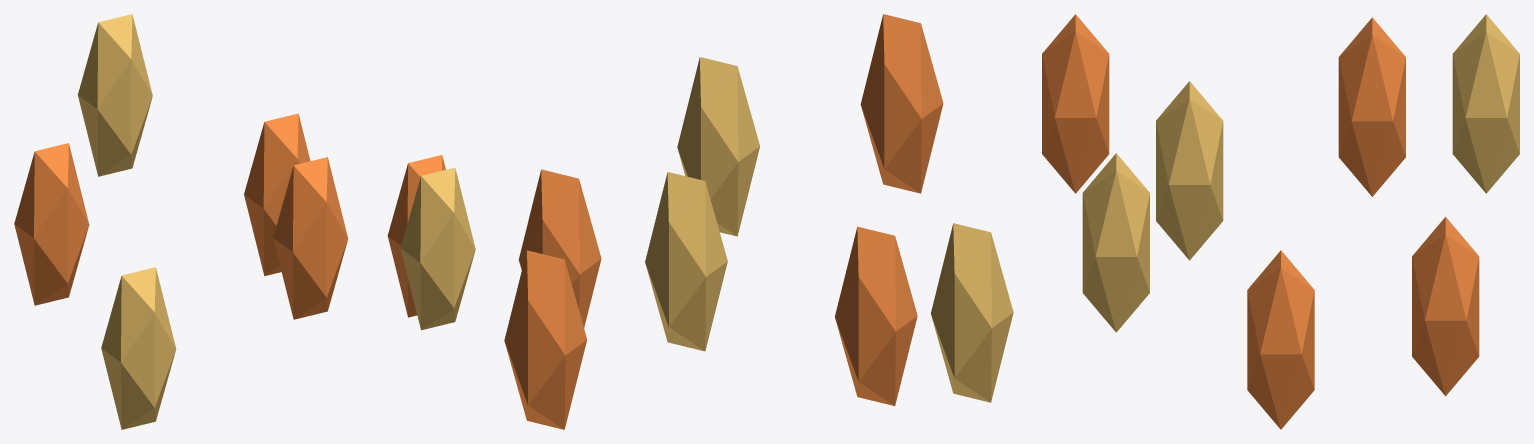
Rendered from fx_impact_sparks.glb.
3 renders of one model, left to right at view 1: azimuth 30°, elevation 25°; view 2: azimuth 150°, elevation 25°; view 3: azimuth 270°, elevation 25°, orthographic. The views are drawn at different scales.
Visible parts, largest first — view 1: spark_2, spark_3, spark_4, spark_1, spark_5, spark_6, spark_0; view 2: spark_4, spark_2, spark_3, spark_5, spark_6, spark_1, spark_0; view 3: spark_0, spark_6, spark_1, spark_4, spark_2, spark_3, spark_5.
Boxes of the visible parts, x1=… form: spark_2: x1=273, y1=157, x2=348, y2=319; spark_3: x1=101, y1=267, x2=176, y2=429; spark_4: x1=14, y1=143, x2=89, y2=305; spark_1: x1=400, y1=167, x2=475, y2=330; spark_5: x1=78, y1=14, x2=152, y2=176; spark_6: x1=244, y1=113, x2=310, y2=276; spark_0: x1=387, y1=155, x2=445, y2=317; spark_4: x1=835, y1=226, x2=917, y2=405; spark_2: x1=860, y1=14, x2=943, y2=193; spark_3: x1=931, y1=223, x2=1013, y2=402; spark_5: x1=645, y1=172, x2=727, y2=351; spark_6: x1=504, y1=250, x2=587, y2=429; spark_1: x1=677, y1=57, x2=759, y2=236; spark_0: x1=518, y1=169, x2=601, y2=327; spark_0: x1=1247, y1=250, x2=1314, y2=429; spark_6: x1=1412, y1=216, x2=1479, y2=396; spark_1: x1=1082, y1=153, x2=1149, y2=332; spark_4: x1=1338, y1=17, x2=1405, y2=196; spark_2: x1=1042, y1=14, x2=1109, y2=193; spark_3: x1=1156, y1=81, x2=1223, y2=260; spark_5: x1=1452, y1=14, x2=1519, y2=193.
Bounding box in the file's own units: 0.5328 × 0.3642 × 0.5445.
